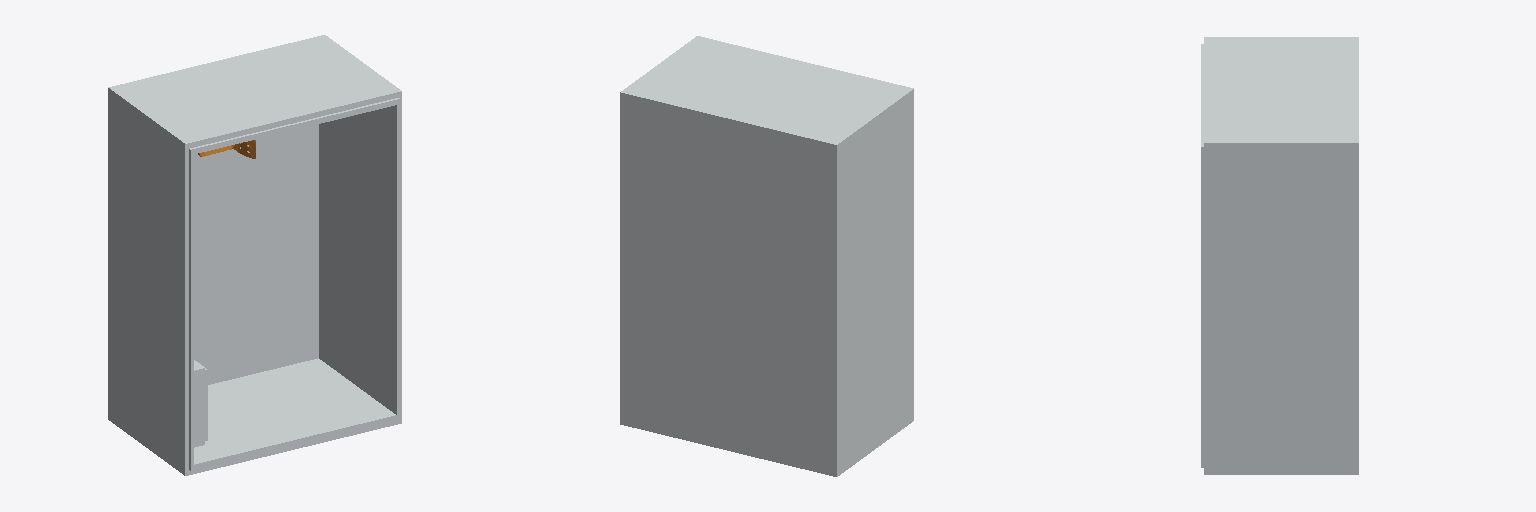
Rendered from room.obj.
The picture shows the model from 3 angles: view 1: azimuth 30°, elevation 25°; view 2: azimuth 150°, elevation 25°; view 3: azimuth 270°, elevation 25°; orthographic projection.
Size of the model in its own units: 122 by 179 by 77.